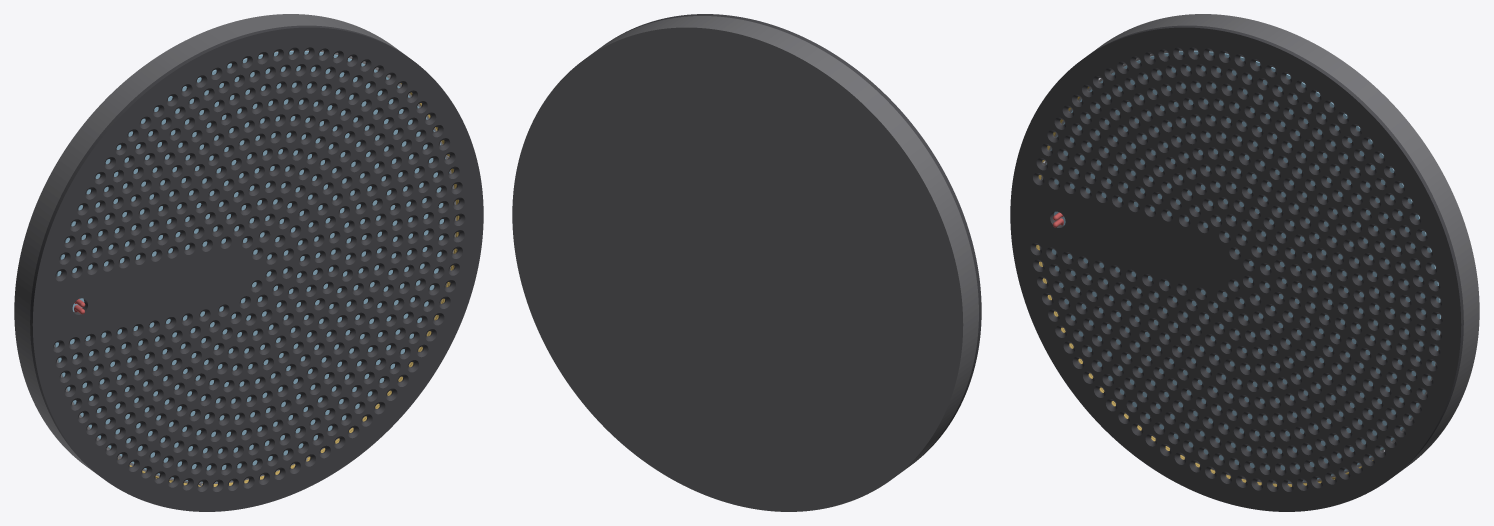
Rendered from assembly.glb.
The picture shows the model from 3 angles, left to right: view 1: azimuth 30°, elevation 25°; view 2: azimuth 150°, elevation 25°; view 3: azimuth 330°, elevation 25°; orthographic projection.
Parts seen in each view (by area): view 1: LID, SHELL_LOWER, POTTING_digital, POTTING_analog, POTTING_hv, LITZ; view 2: SHELL_LOWER, LID; view 3: LID, SHELL_LOWER, POTTING_digital, POTTING_analog, LITZ, POTTING_hv.
Boxes of the visible parts, <box> form: LID: <box>30,25,483,511</box>; SHELL_LOWER: <box>14,14,404,472</box>; POTTING_digital: <box>66,51,449,482</box>; POTTING_analog: <box>71,58,256,254</box>; POTTING_hv: <box>55,232,172,377</box>; LITZ: <box>118,83,459,486</box>; SHELL_LOWER: <box>512,16,978,511</box>; LID: <box>606,14,981,463</box>; LID: <box>1010,25,1463,511</box>; SHELL_LOWER: <box>1089,14,1479,472</box>; POTTING_digital: <box>1059,57,1440,482</box>; POTTING_analog: <box>1056,50,1242,254</box>; LITZ: <box>1036,86,1373,486</box>; POTTING_hv: <box>1042,149,1154,284</box>.
Size of the model in its own units: 233 by 233 by 19.75.
